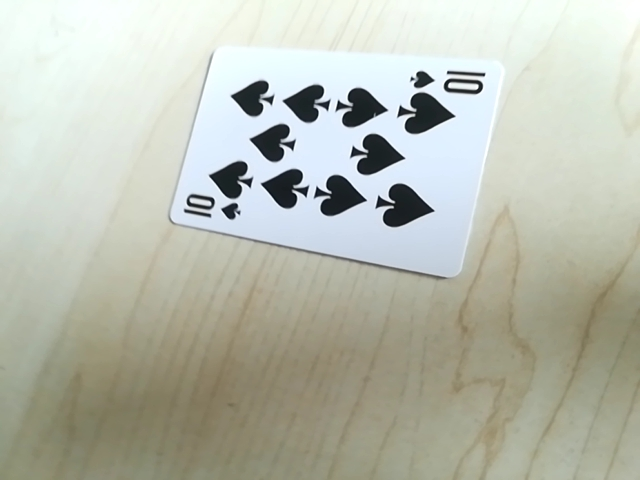ht 10: (407, 63, 494, 97), (178, 195, 245, 227)
